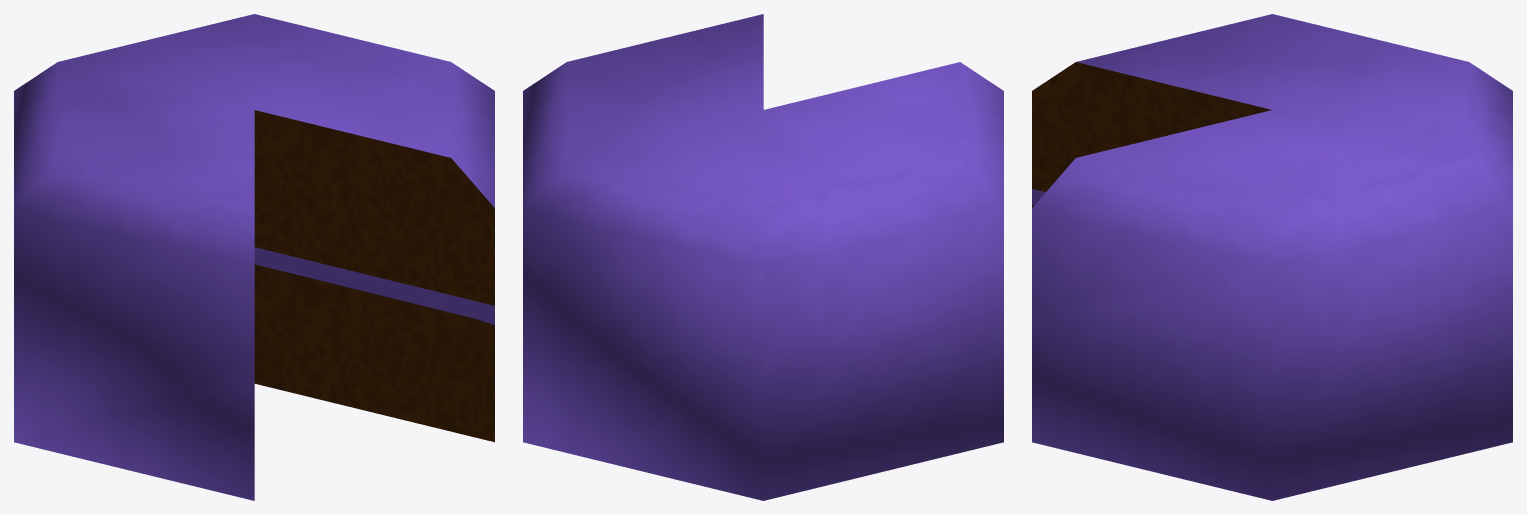
File: Cake_Sliced_G.FBX
3 renders of one model, left to right at view 1: azimuth 30°, elevation 25°; view 2: azimuth 150°, elevation 25°; view 3: azimuth 270°, elevation 25°, orthographic.
Parts seen in each view (by area): view 1: Cake_E; view 2: Cake_E; view 3: Cake_E.
Boxes of the visible parts, <box> form: Cake_E: <box>14,14,494,500</box>; Cake_E: <box>523,14,1003,500</box>; Cake_E: <box>1032,14,1512,500</box>.
Size of the model in its own units: 102 by 55.58 by 88.51.
